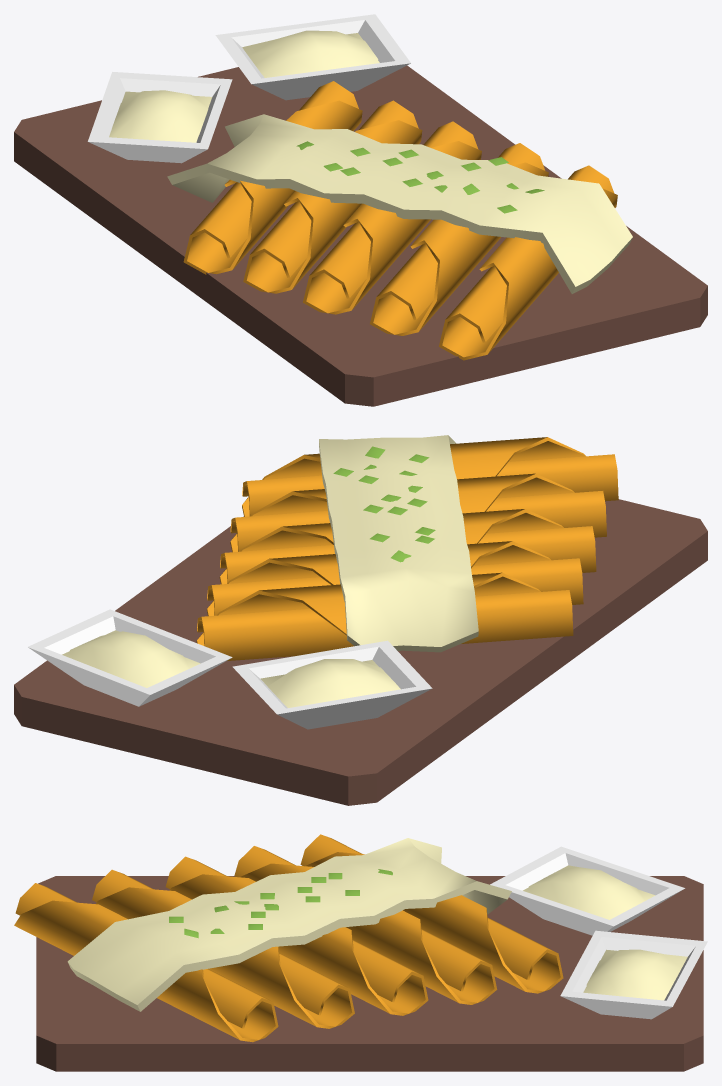
Rendered from MXC_Food_Enchiladas.fbx.
The picture shows the model from 3 angles, top to bottom: view 1: azimuth 30°, elevation 25°; view 2: azimuth 150°, elevation 25°; view 3: azimuth 270°, elevation 25°; orthographic projection. The views are drawn at different scales.
Parts seen in each view (by area): view 1: MXC_Food_Enchiladas; view 2: MXC_Food_Enchiladas; view 3: MXC_Food_Enchiladas.
Boxes of the visible parts, x1,y1,x2,y2 form: MXC_Food_Enchiladas: [14, 14, 707, 406]; MXC_Food_Enchiladas: [14, 435, 707, 805]; MXC_Food_Enchiladas: [14, 834, 707, 1071].
Bounding box in the file's own units: 21.81 × 5.66 × 36.16.
